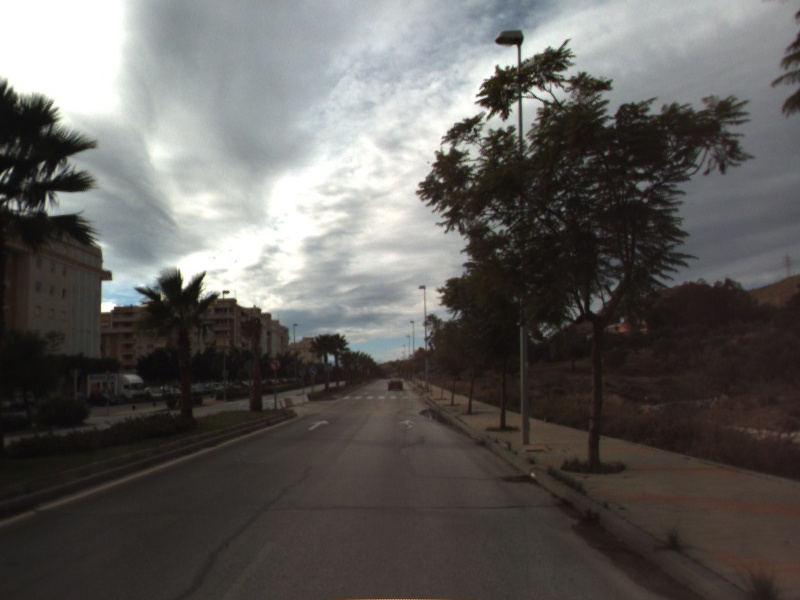STRAIGHT: (306, 418, 331, 432), (397, 417, 417, 431)
